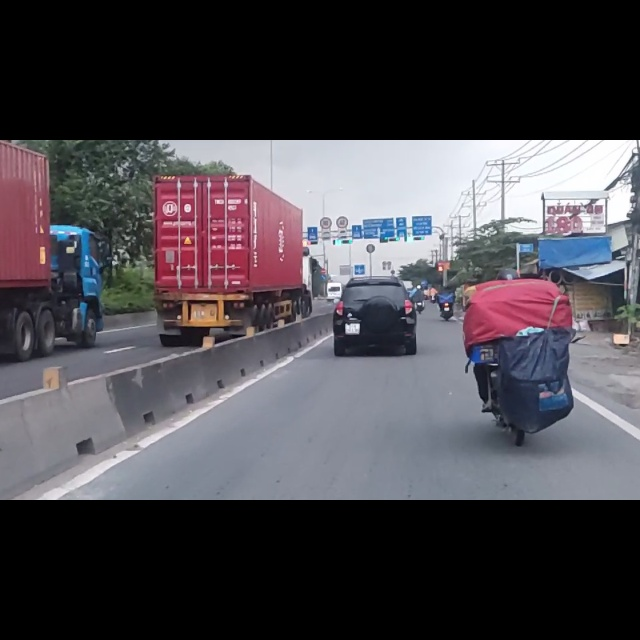bien_chi_dan: (335, 134, 349, 159), (320, 137, 332, 159)
